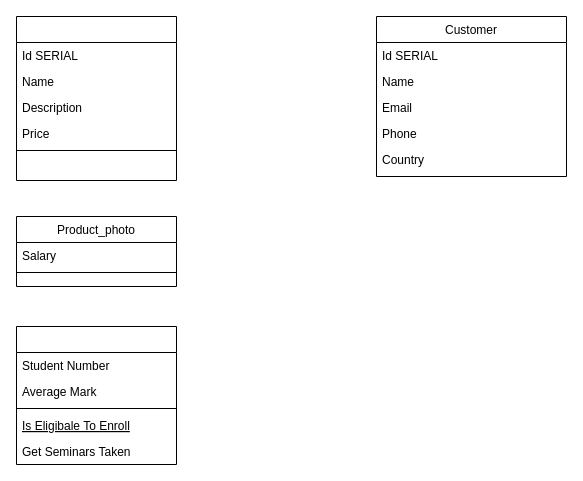
Some shapes in this 583 by 481 pixel diagram are drawn without their labels. Here are the shapes that lost their labels. From the top down, the box of each, then its label:
(16, 16, 176, 180): Product
(16, 326, 176, 464): Cart
